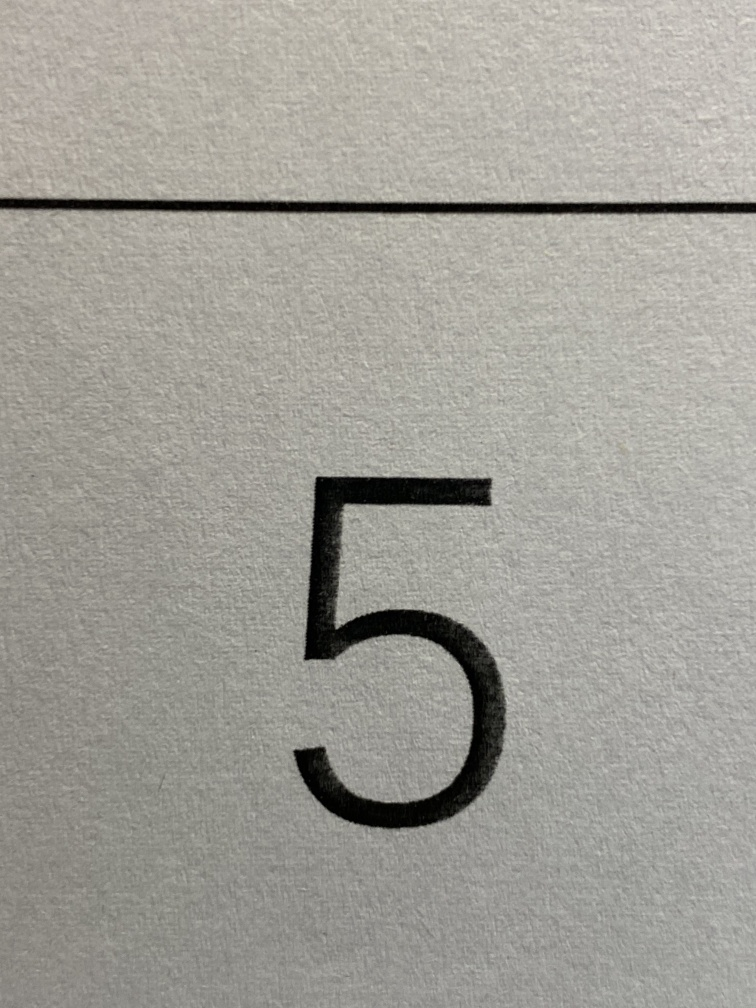five: (252, 420, 563, 856)
